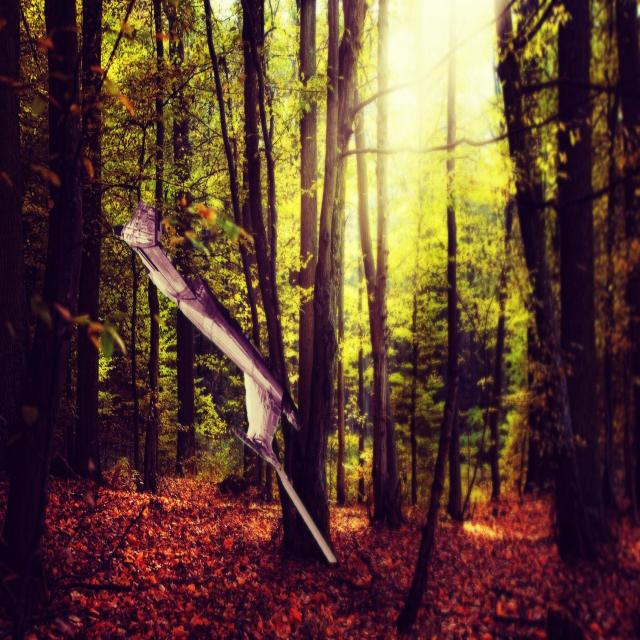airplane: (113, 200, 338, 567)
